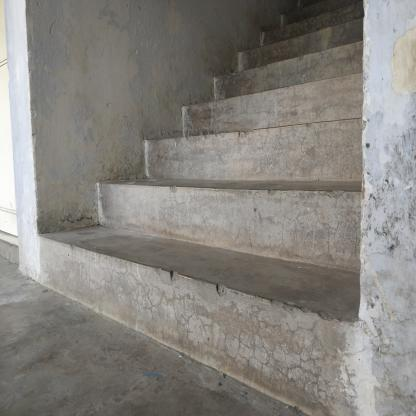stairs: (101, 72, 363, 378)
